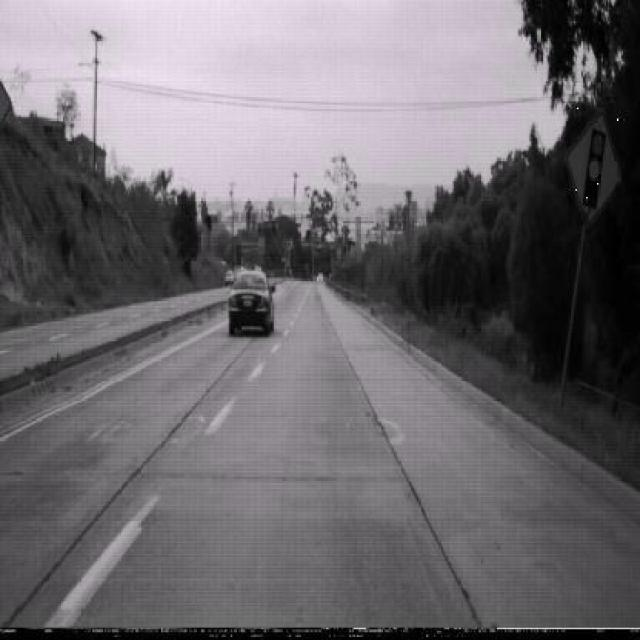signalAhead: (564, 106, 622, 224)
